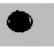correct: (3, 9, 36, 36)
